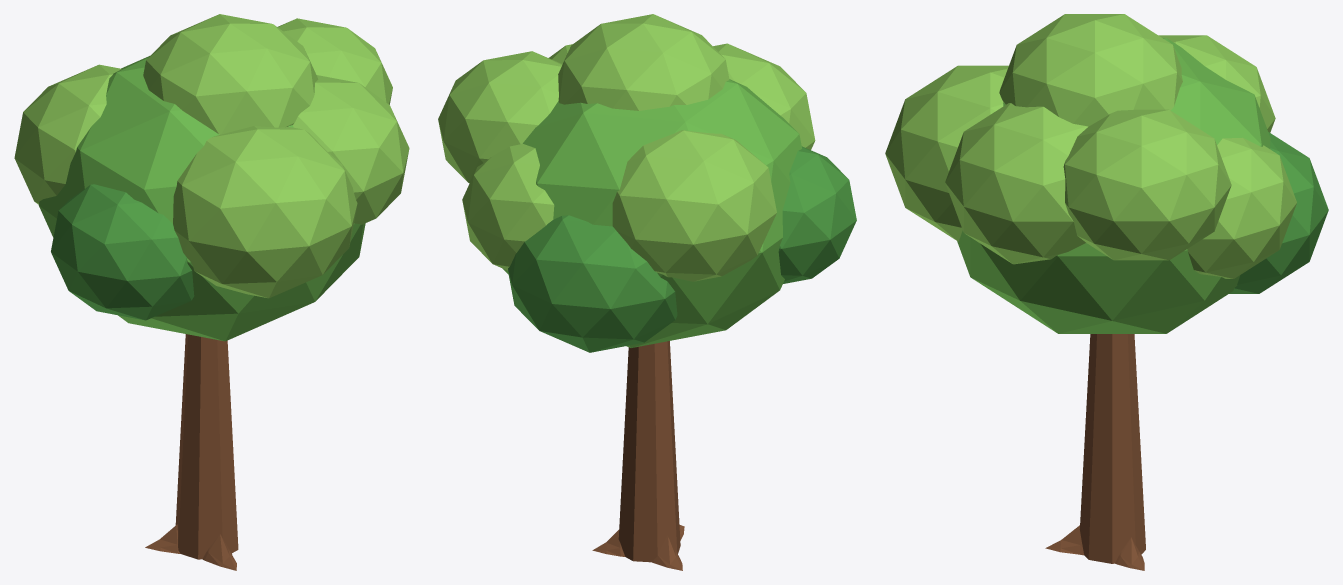
Rendered from tree-round-b.glb.
The picture shows the model from 3 angles, left to right: view 1: azimuth 30°, elevation 25°; view 2: azimuth 150°, elevation 25°; view 3: azimuth 270°, elevation 25°; orthographic projection. The views are drawn at different scales.
Parts seen in each view (by area): view 1: tree-round-b; view 2: tree-round-b; view 3: tree-round-b.
Boxes of the visible parts, x1,y1,x2,y2 form: tree-round-b: (14, 14, 409, 570); tree-round-b: (438, 14, 856, 570); tree-round-b: (885, 14, 1328, 570).
Bounding box in the file's own units: 4.32 × 6.07 × 4.55.
